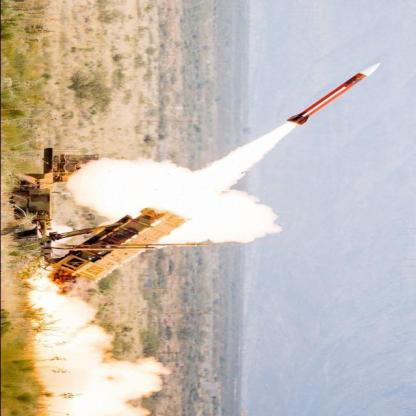MIL_TBM: (281, 63, 389, 125)
